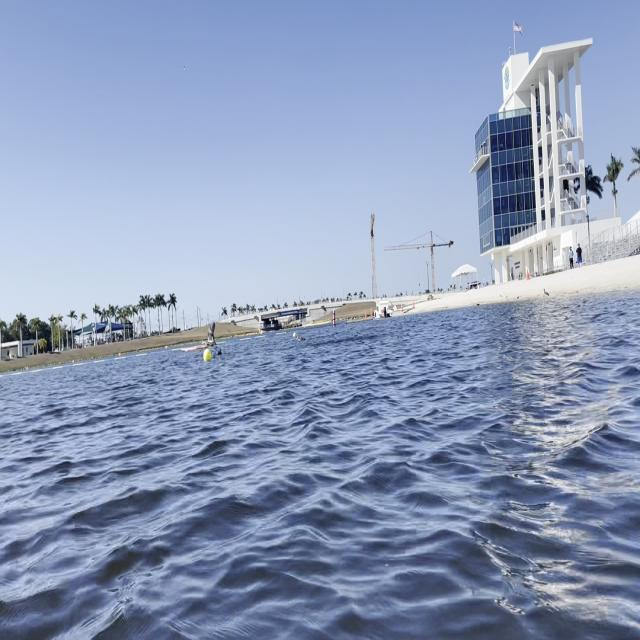buoy: (204, 348, 212, 361), (293, 332, 297, 338)
